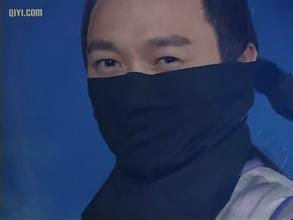OK: (87, 17, 222, 164)
